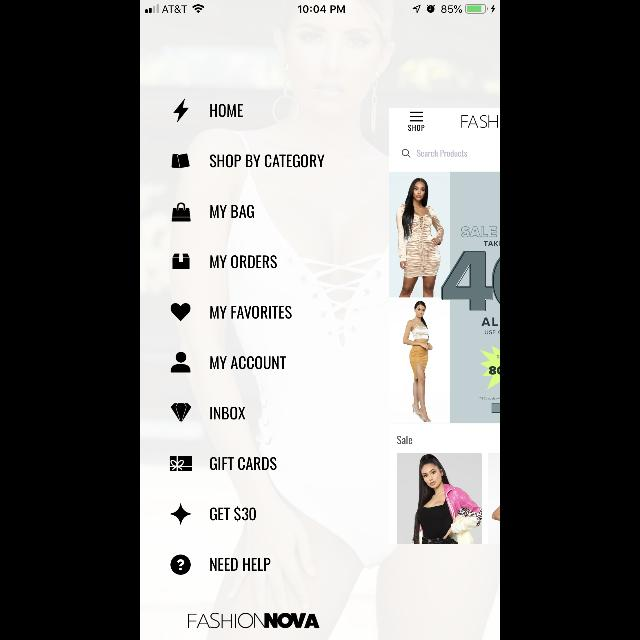backgroundimage: (140, 1, 500, 640)
icon: (171, 202, 191, 222), (171, 352, 191, 372), (171, 555, 191, 575), (171, 303, 191, 321), (170, 455, 192, 471), (172, 154, 190, 168), (411, 112, 424, 122), (402, 150, 410, 158)
image: (390, 173, 500, 423), (397, 454, 481, 544), (488, 453, 499, 543), (170, 503, 192, 525), (173, 99, 189, 123), (171, 403, 191, 422), (172, 253, 190, 269)
input: (399, 150, 499, 162)
text: (188, 614, 320, 628), (210, 154, 324, 168), (210, 356, 286, 369), (210, 306, 292, 318), (210, 458, 276, 470), (210, 256, 276, 268), (210, 506, 256, 522), (210, 558, 270, 570), (210, 205, 254, 218), (210, 406, 246, 419), (210, 104, 243, 118), (462, 116, 500, 128), (417, 149, 467, 157), (398, 436, 412, 444), (409, 125, 425, 131)
uppertaskbar: (140, 0, 500, 14)
